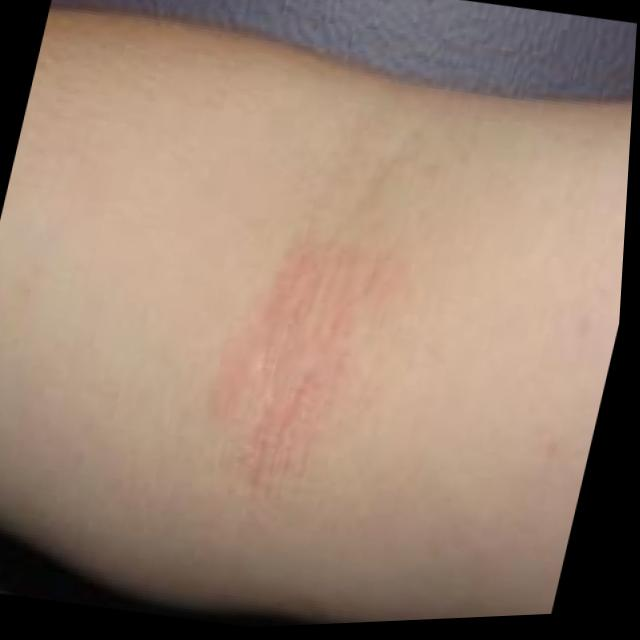Eczema: (202, 224, 390, 488)
